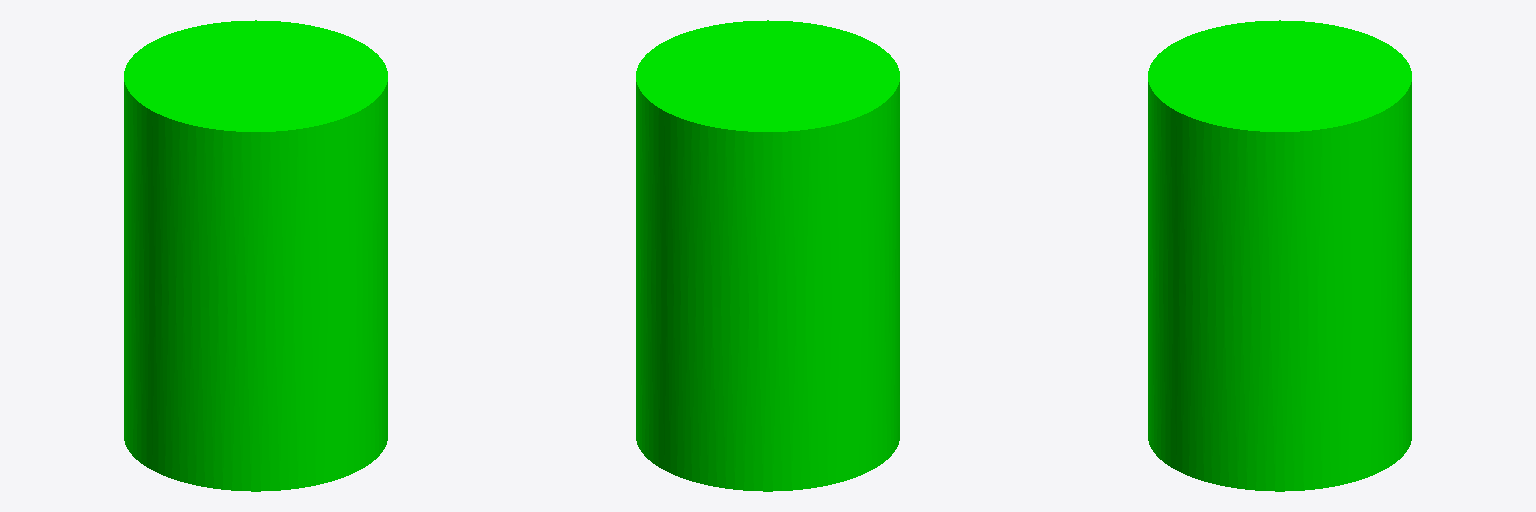
The robot description file, URDF, robot "Cylinder_v6_40_60":
<robot name="Cylinder_v6_40_60">
	<link name="object">
		<visual>
			<origin xyz="-2.5750220284762804e-18 -2.5750220284762804e-18 -0.6" rpy="0.0 0.0 0.0" />
			<geometry>
				<mesh filename="Cylinder_v6_40_60/Cylinder_v6_40_60.obj" scale="0.02 0.02 0.02" />
			</geometry>
			<material name="texture">
				<color rgba="0.0 1.0 0.0 1.0" />
			</material>
		</visual>
		<collision>
			<origin xyz="-2.5750220284762804e-18 -2.5750220284762804e-18 -0.6" rpy="0.0 0.0 0.0" />
			<geometry>
				<mesh filename="Cylinder_v6_40_60/Cylinder_v6_40_60_vhacd.obj" scale="0.02 0.02 0.02" />
			</geometry>
		</collision>
		<inertial>
			<mass value="0.020" />
			<inertia ixx="1.0" ixy="0.0" ixz="0.0" iyy="1.0" iyz="0.0" izz="1.0" />
		</inertial>
	</link>
</robot>

--- Facts derived from the render (not from the file) ---
The picture shows the robot from 3 angles, left to right: view 1: azimuth 30°, elevation 25°; view 2: azimuth 150°, elevation 25°; view 3: azimuth 270°, elevation 25°; orthographic projection.
Robot: Cylinder_v6_40_60 — 1 links, 0 joints (none); root link object; default pose: every joint at zero.
Links seen in each view (by area): view 1: object; view 2: object; view 3: object.
Link boxes in pixels (<box>): object: <box>124,20,387,491</box>; object: <box>636,20,899,491</box>; object: <box>1148,20,1411,491</box>.
Size in the robot's own frame: 0.8 by 0.7999 by 1.2 metres.
1 mesh visuals loaded from 1 distinct referenced files (1 OBJ).